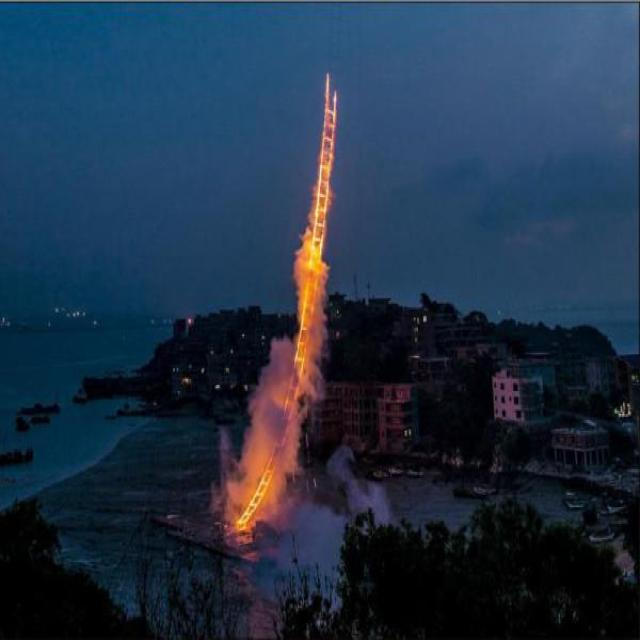fire: (222, 57, 342, 543)
smoke: (493, 366, 547, 421), (230, 426, 258, 495), (258, 349, 282, 421), (278, 442, 292, 474), (291, 417, 299, 445)
